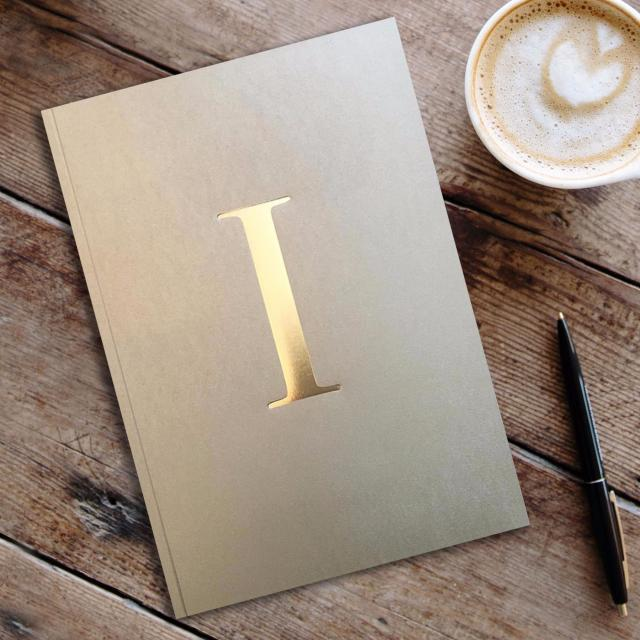I: (173, 159, 407, 474)
